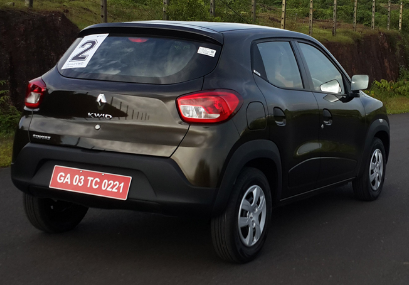car: (9, 18, 394, 267)
